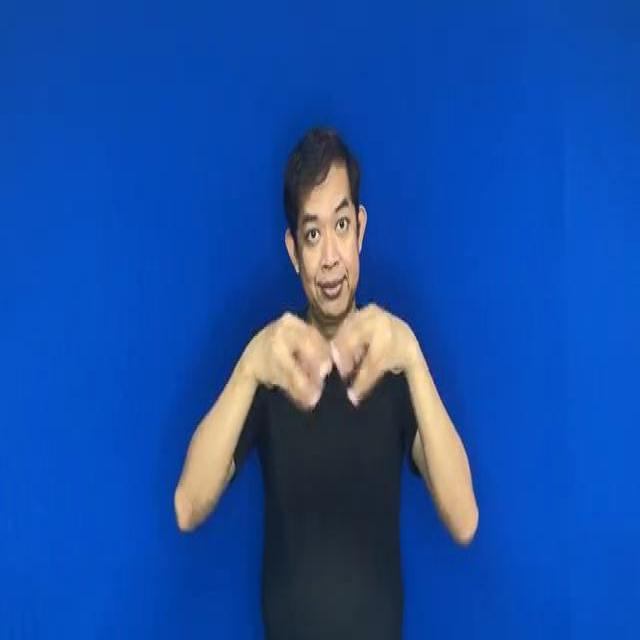egg: (249, 280, 414, 429)
